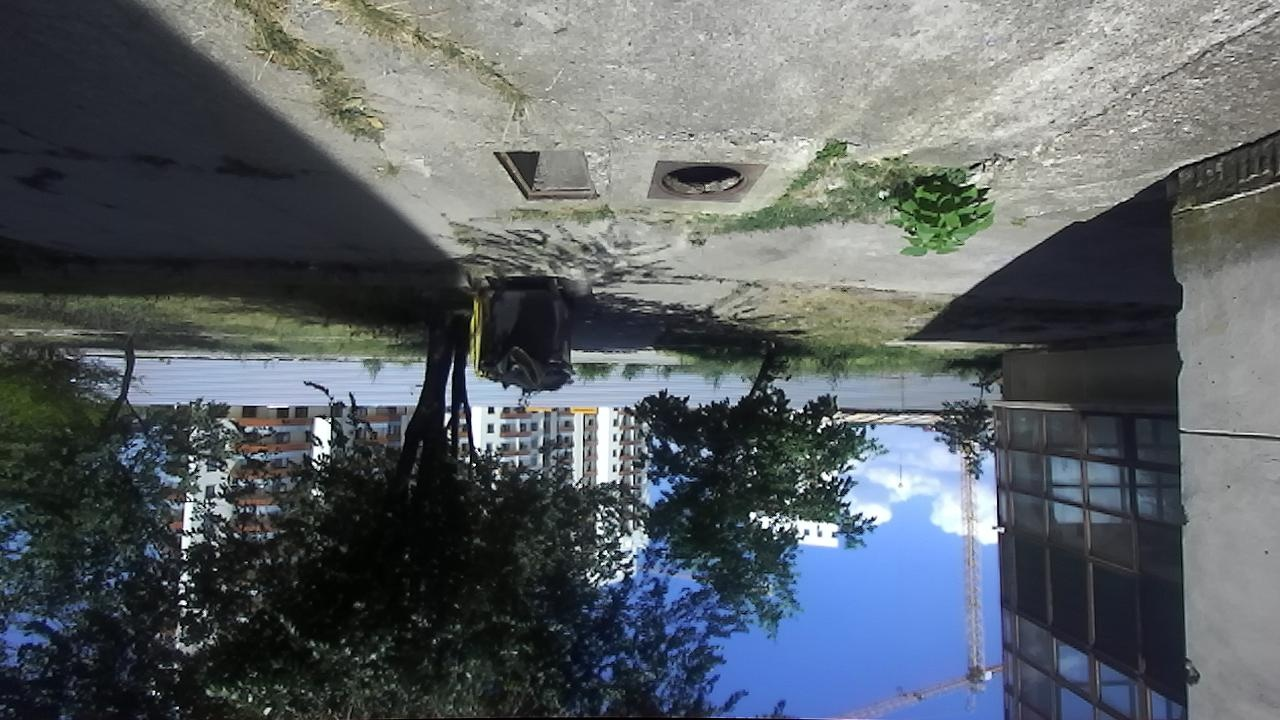drain: (490, 146, 601, 203), (659, 158, 749, 199)
